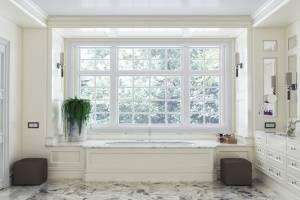window: (51, 28, 247, 141)
